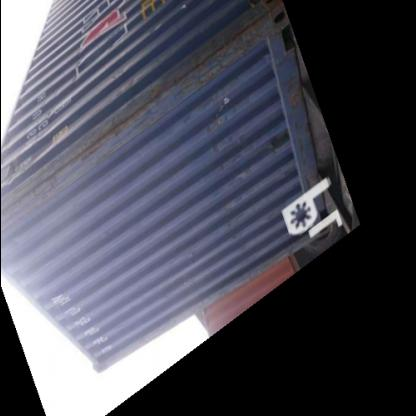Damage: (130, 12, 260, 110), (14, 110, 126, 210)
